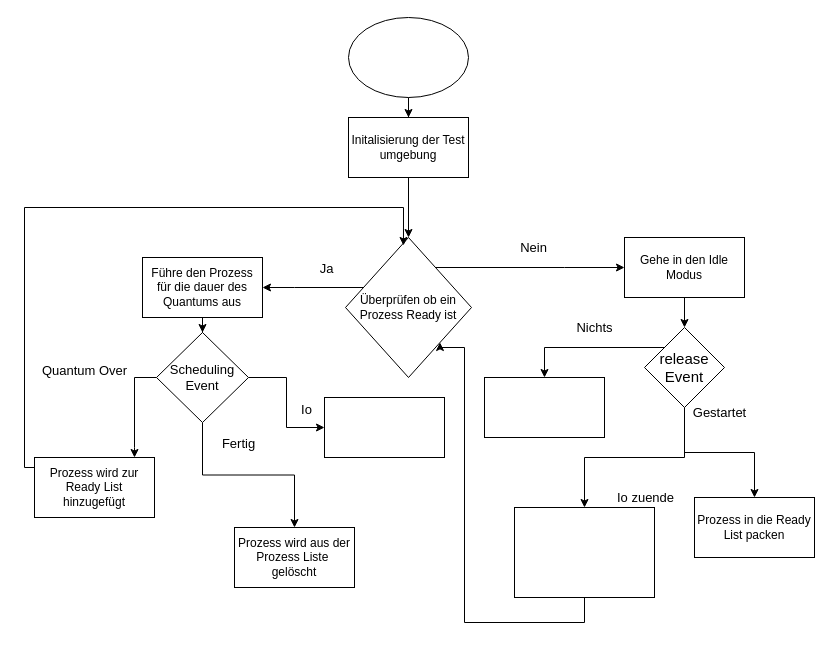
This 832x648 diagram has some shape labels left out. The centre of each missing label's shape, as x and y in pixels:
Diesen aus der Blocked List entfernen und ihn in die Ready List hinzufügen: the point at 584,552
Programm Start: the point at 408,57
Prozess wird zur Blocked List hinzugefügt: the point at 384,427
Simulation Beenden: the point at 544,407
